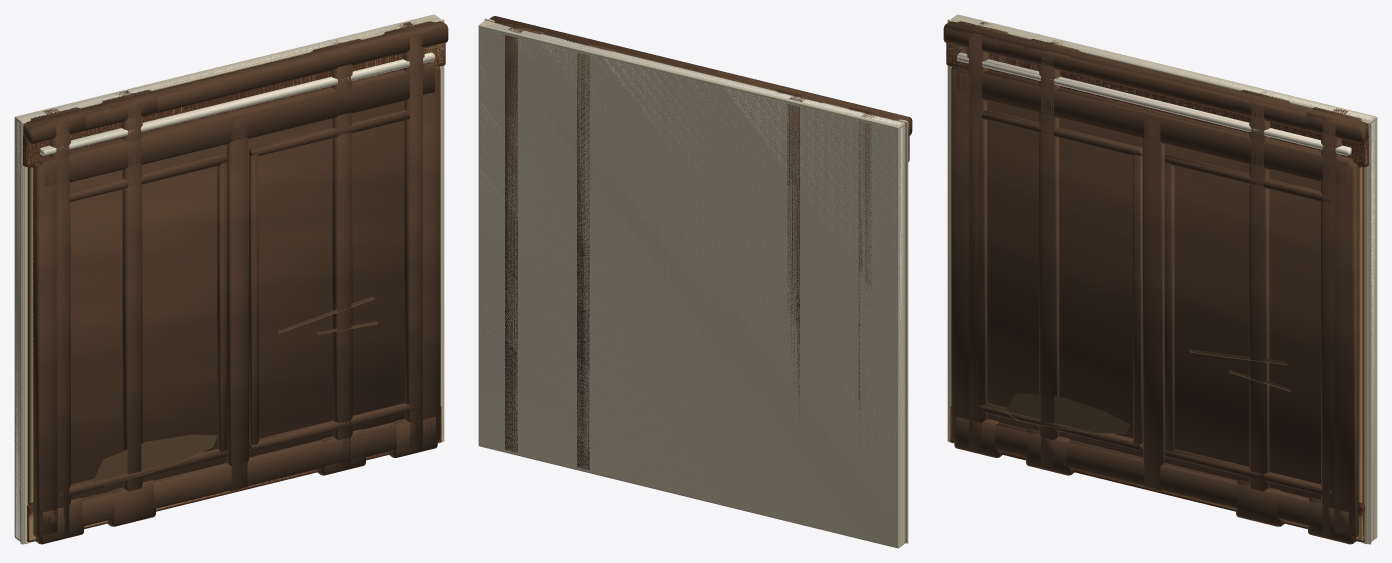
The model's file is asset_056_interior_wall_panel_kit.glb.
3 renders of one model, left to right at view 1: azimuth 30°, elevation 25°; view 2: azimuth 150°, elevation 25°; view 3: azimuth 330°, elevation 25°, orthographic.
Parts seen in each view (by area): view 1: MESH_PanelMutedSageDadoField, MESH_RestrainedWalnutWainscotFrame, MESH_RaisedWalnutPanelMouldings, MESH_RestrainedCreamPanelProfile, MESH_PanelDoorConnectorProfile, MESH_PanelOutsideCornerProfile, MESH_PanelWindowConnectorProfile, MESH_PanelInsideCornerProfile, MESH_WallDrywallMunicipalCarrier, MESH_WallLuxuryMouldingLuxuryCarrier, MESH_PanelWarmPlasterBack, MESH_WallDrywallLuxuryCarrier (+5 smaller); view 2: MESH_WallDrywallHighEndCarrier, MESH_WallDrywallLuxuryCarrier, MESH_WallDrywallMunicipalCarrier, MESH_WallDrywallPremiumCarrier, MESH_PanelOutsideCornerProfile, MESH_PanelWarmPlasterBack, MESH_PanelWindowConnectorProfile, MESH_PanelDoorConnectorProfile, MESH_WallDrywallStandardCarrier, MESH_RestrainedCreamPanelProfile, MESH_PanelInsideCornerProfile; view 3: MESH_PanelMutedSageDadoField, MESH_RestrainedWalnutWainscotFrame, MESH_RaisedWalnutPanelMouldings, MESH_RestrainedCreamPanelProfile, MESH_PanelWindowConnectorProfile, MESH_PanelDoorConnectorProfile, MESH_PanelInsideCornerProfile, MESH_PanelOutsideCornerProfile, MESH_WallLuxuryMouldingLuxuryCarrier, MESH_WallLuxuryTrimLuxuryCarrier, MESH_WallDrywallMunicipalCarrier, MESH_WallDrywallLuxuryCarrier (+5 smaller).
Part boxes in pixels (box(x1,y1,x2,y2)): MESH_PanelMutedSageDadoField: box(71, 101, 404, 499); MESH_RestrainedWalnutWainscotFrame: box(33, 63, 440, 537); MESH_RaisedWalnutPanelMouldings: box(60, 110, 418, 496); MESH_RestrainedCreamPanelProfile: box(23, 21, 448, 155); MESH_PanelDoorConnectorProfile: box(101, 89, 157, 526); MESH_PanelOutsideCornerProfile: box(383, 21, 438, 457); MESH_PanelWindowConnectorProfile: box(311, 39, 367, 475); MESH_PanelInsideCornerProfile: box(30, 107, 85, 544); MESH_WallDrywallMunicipalCarrier: box(14, 14, 444, 544); MESH_WallLuxuryMouldingLuxuryCarrier: box(23, 43, 445, 542); MESH_PanelWarmPlasterBack: box(15, 15, 433, 539); MESH_WallDrywallLuxuryCarrier: box(15, 16, 442, 543); MESH_WallDrywallHighEndCarrier: box(480, 19, 905, 527); MESH_WallDrywallLuxuryCarrier: box(480, 19, 905, 545); MESH_WallDrywallMunicipalCarrier: box(478, 18, 908, 548); MESH_WallDrywallPremiumCarrier: box(479, 18, 906, 546); MESH_PanelOutsideCornerProfile: box(494, 21, 544, 452); MESH_PanelWarmPlasterBack: box(480, 24, 904, 474); MESH_PanelWindowConnectorProfile: box(566, 38, 615, 469); MESH_PanelDoorConnectorProfile: box(776, 87, 830, 404); MESH_WallDrywallStandardCarrier: box(479, 18, 907, 544); MESH_RestrainedCreamPanelProfile: box(489, 16, 912, 135); MESH_PanelInsideCornerProfile: box(848, 104, 897, 449); MESH_PanelMutedSageDadoField: box(987, 101, 1320, 499); MESH_RestrainedWalnutWainscotFrame: box(951, 63, 1358, 537); MESH_RaisedWalnutPanelMouldings: box(973, 110, 1331, 495); MESH_RestrainedCreamPanelProfile: box(943, 21, 1368, 155); MESH_PanelWindowConnectorProfile: box(1234, 89, 1290, 526); MESH_PanelDoorConnectorProfile: box(1024, 39, 1080, 475); MESH_PanelInsideCornerProfile: box(952, 21, 1008, 457); MESH_PanelOutsideCornerProfile: box(1306, 107, 1361, 544); MESH_WallLuxuryMouldingLuxuryCarrier: box(946, 43, 1368, 542); MESH_WallLuxuryTrimLuxuryCarrier: box(946, 43, 1368, 540); MESH_WallDrywallMunicipalCarrier: box(947, 14, 1377, 544); MESH_WallDrywallLuxuryCarrier: box(949, 18, 1376, 543).
Bounding box in the file's own units: 1.21 × 1.15 × 0.0775.
Materials: 35 (1 with a texture image).
